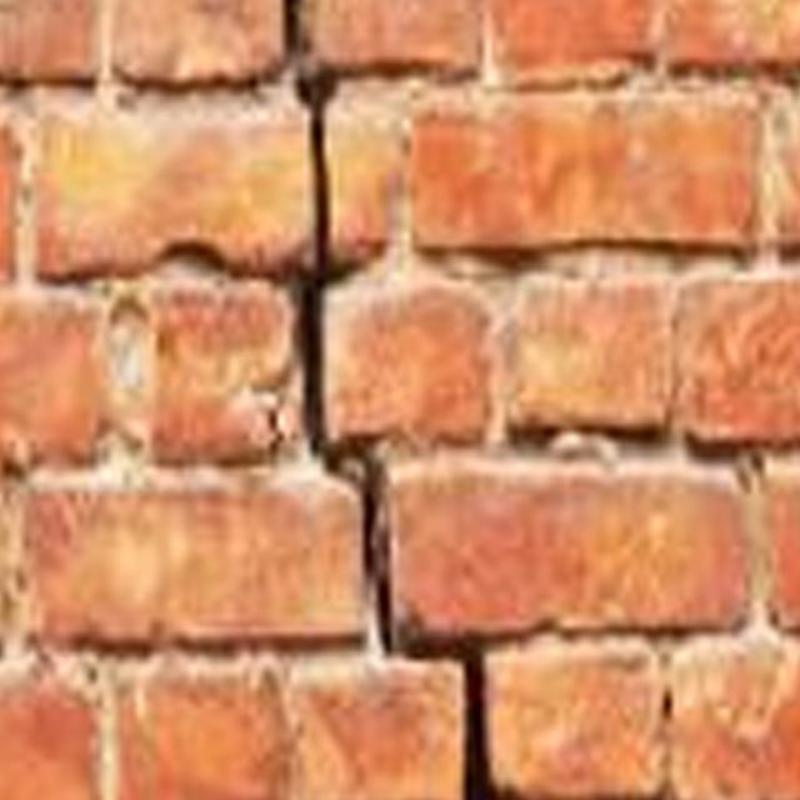crack: (288, 0, 491, 800)
